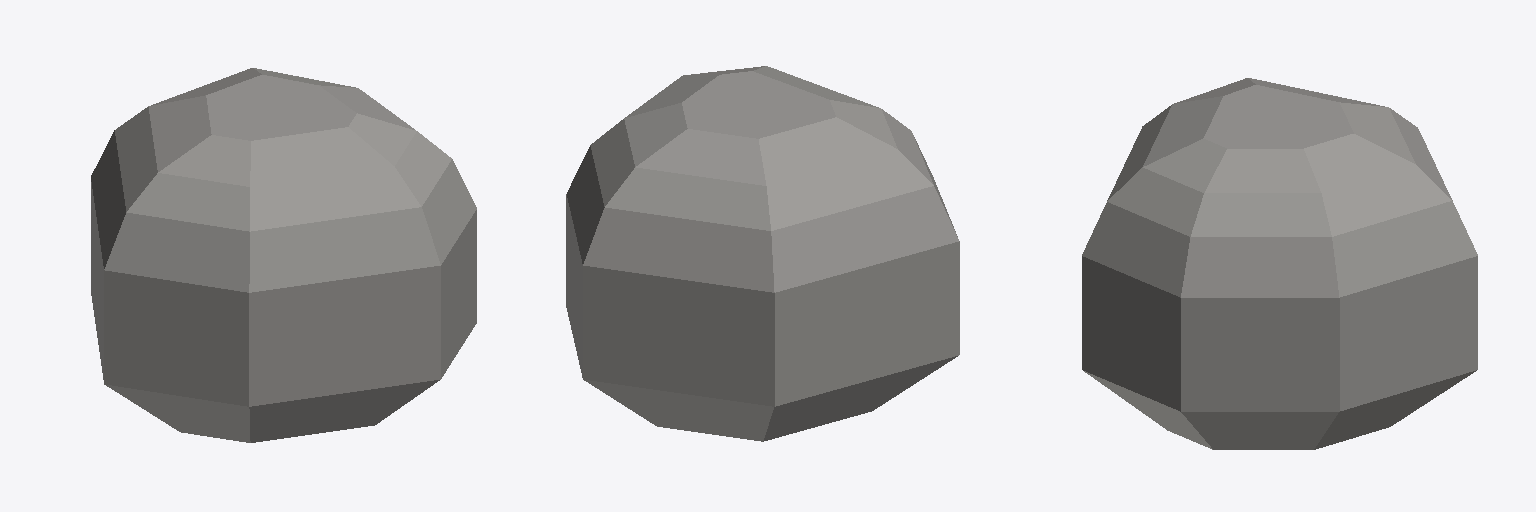
File: Hilly_Prop_Rock_4.obj
3 renders of one model, left to right at view 1: azimuth 30°, elevation 25°; view 2: azimuth 150°, elevation 25°; view 3: azimuth 270°, elevation 25°, orthographic.
Visible parts, largest first — view 1: object1; view 2: object1; view 3: object1.
Part boxes in pixels (left/top/right/bottom): object1: left=91, top=68, right=476, bottom=442; object1: left=566, top=66, right=959, bottom=441; object1: left=1082, top=78, right=1477, bottom=449.
Size of the model in its own units: 1.5 by 1.2 by 1.5.